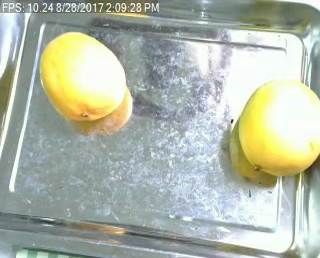Mango: (238, 79, 320, 177), (40, 31, 128, 122)
